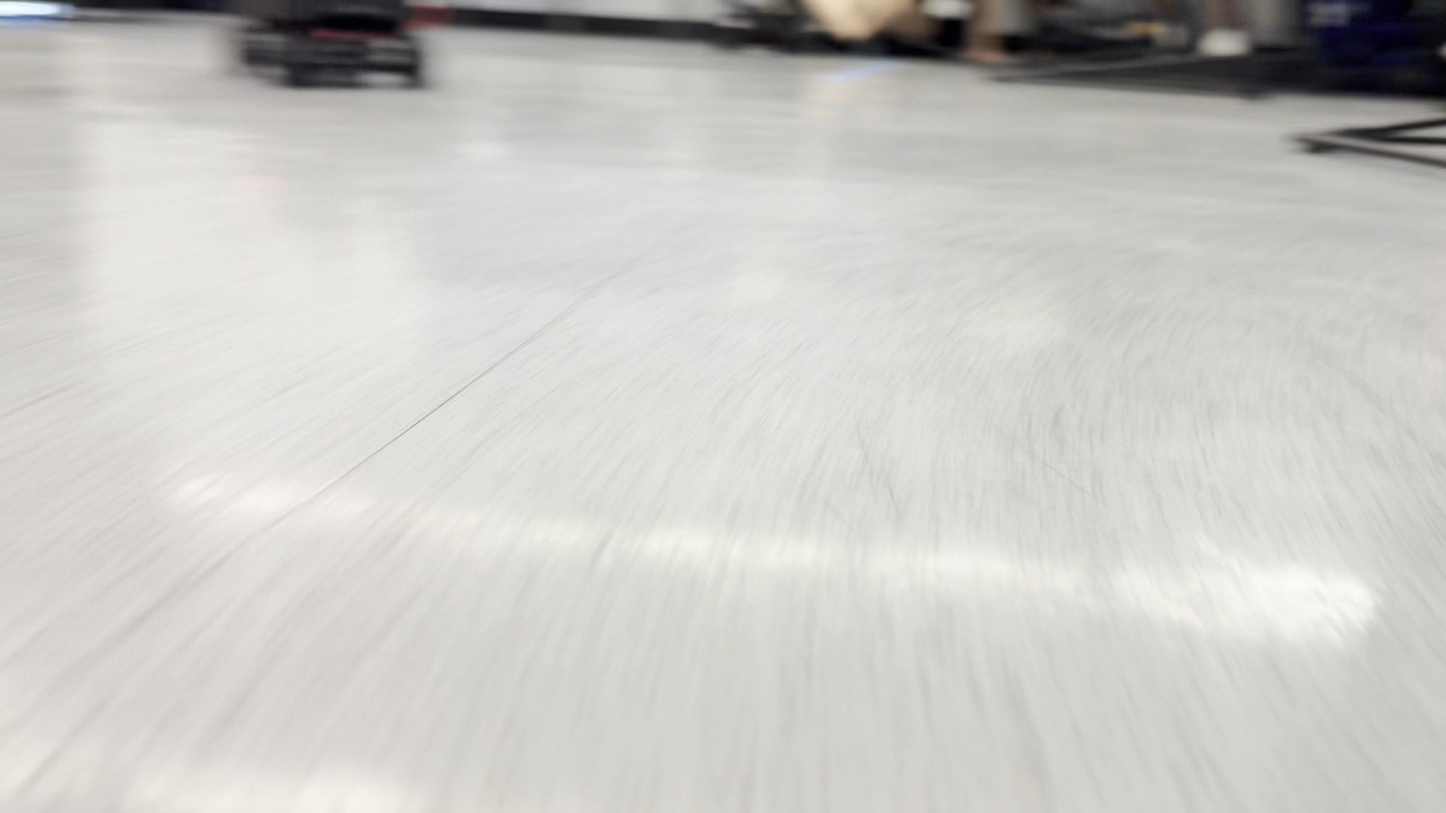racecar: (243, 5, 427, 93)
